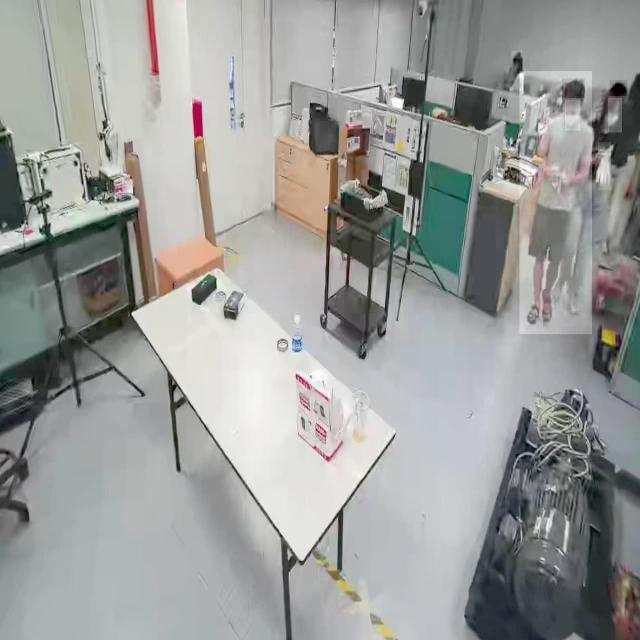gloves: (598, 142, 612, 191)
